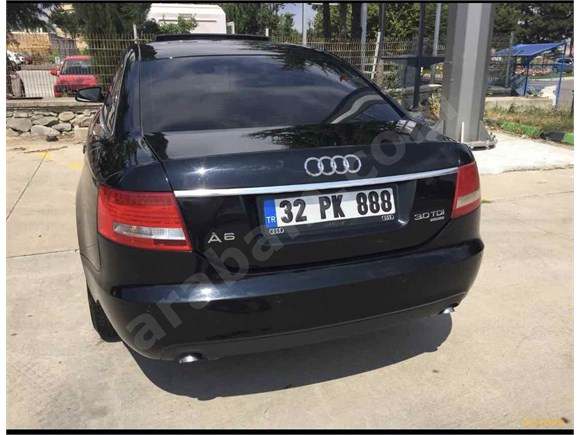audi: (303, 154, 365, 181)
